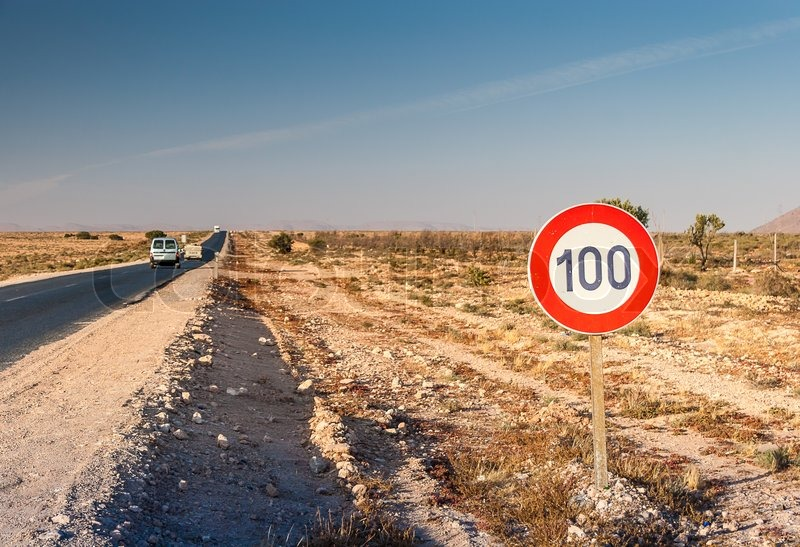Speed_limit_100km: (526, 201, 659, 335)
